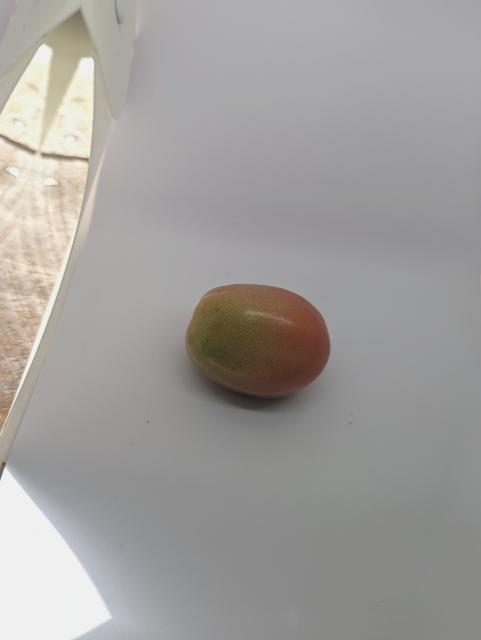turning: (179, 264, 346, 405)
